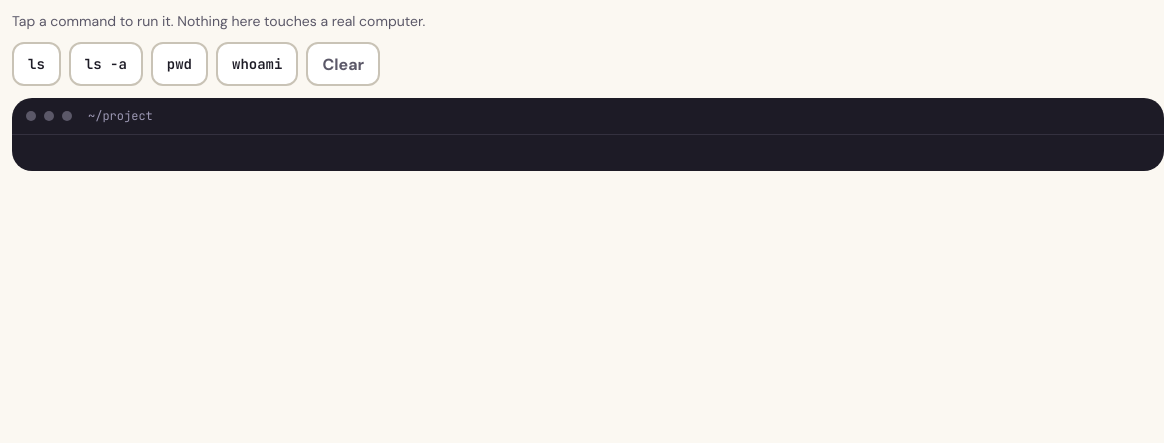
Test case: TerminalDemo › shows scripted output after a click and keeps only the last 4 runs
Check: the text ". .. .env README.md src" is not shown
Click the button "ls -a".
click(106, 64)  # box [69, 42, 143, 86]
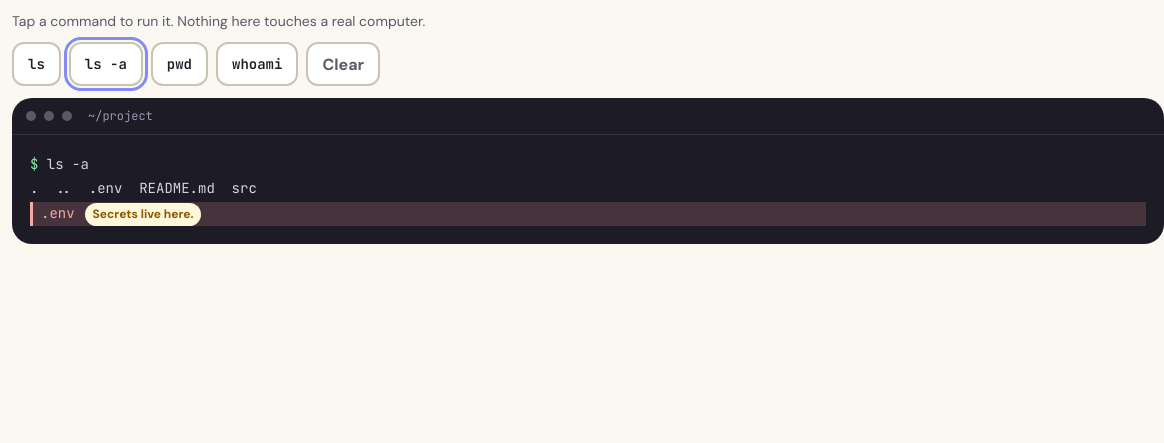
Check: the text ". .. .env README.md src" is shown, box [30, 179, 257, 197]
Check: the text "Secrets live here." is shown, box [85, 203, 202, 226]
Click the button "ls".
click(36, 64)  # box [12, 42, 61, 86]
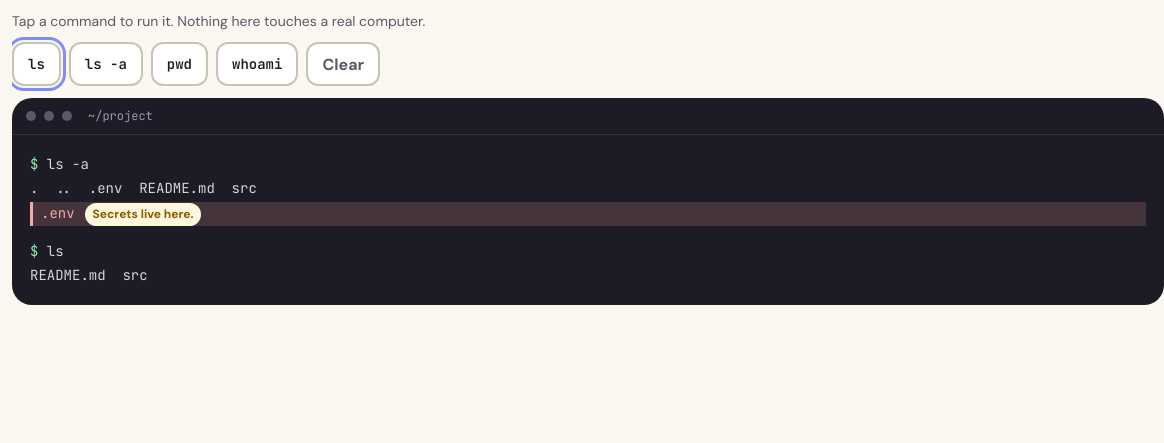
Click the button "ls".
click(36, 64)  # box [12, 42, 61, 86]
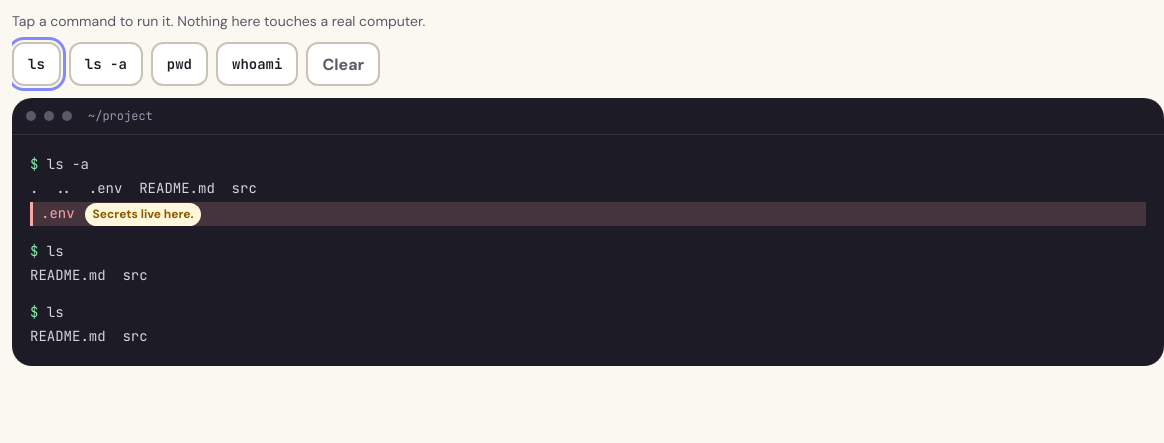
Click the button "ls".
click(36, 64)  # box [12, 42, 61, 86]
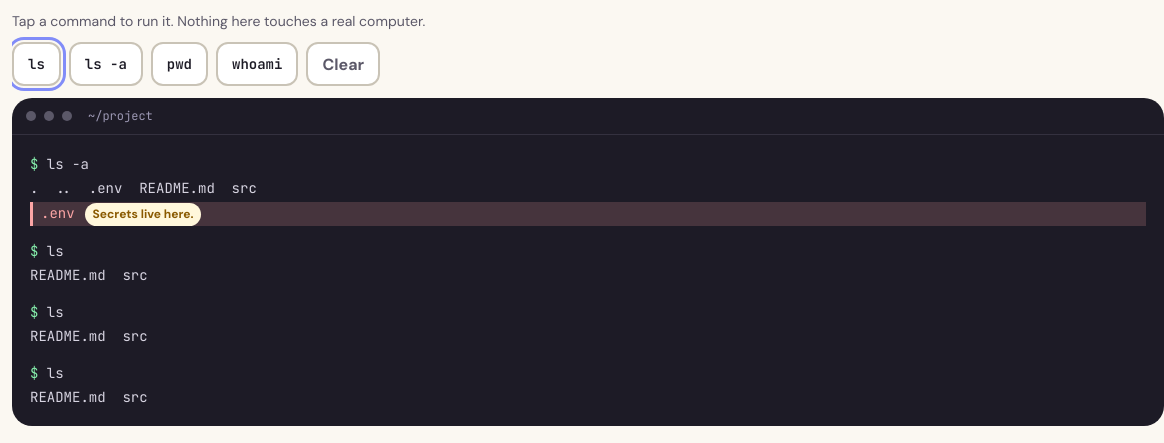
Click the button "pwd".
click(179, 64)  # box [151, 42, 208, 86]
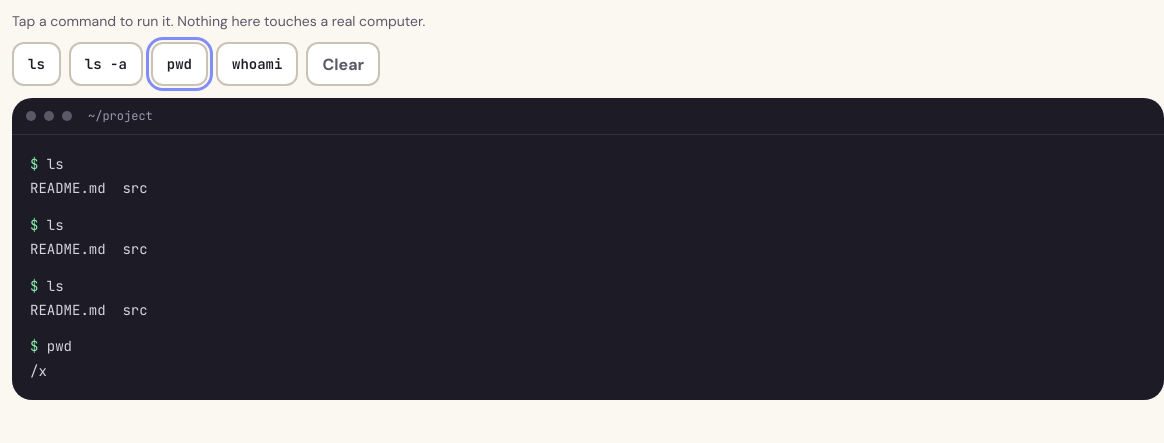
Check: the number of elements with test id "run" is 4, box [30, 155, 148, 197]; [30, 216, 148, 258]; [30, 277, 148, 319]; [30, 337, 72, 380]
Check: the text ". .. .env README.md src" is gone
Click the button "Clear".
click(343, 64)  # box [306, 42, 380, 86]
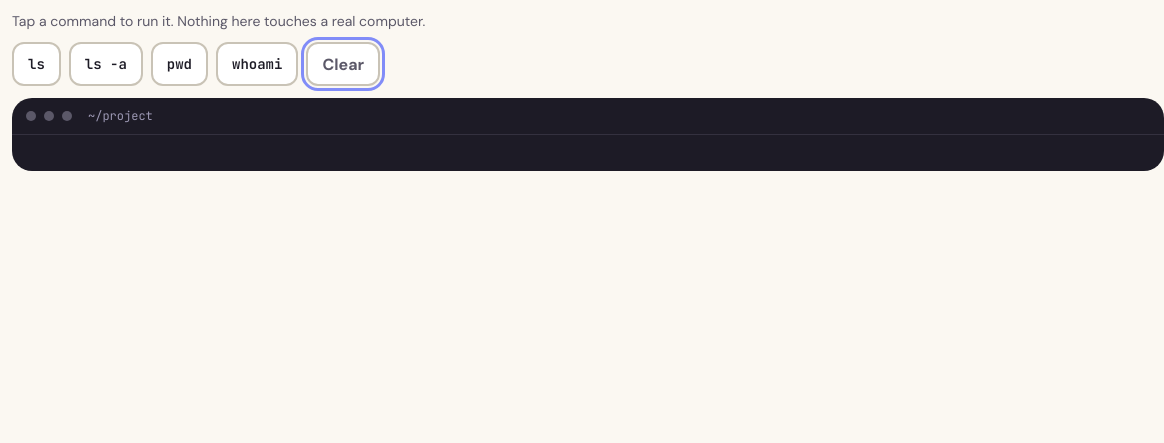
Check: no elements with test id "run" are shown
